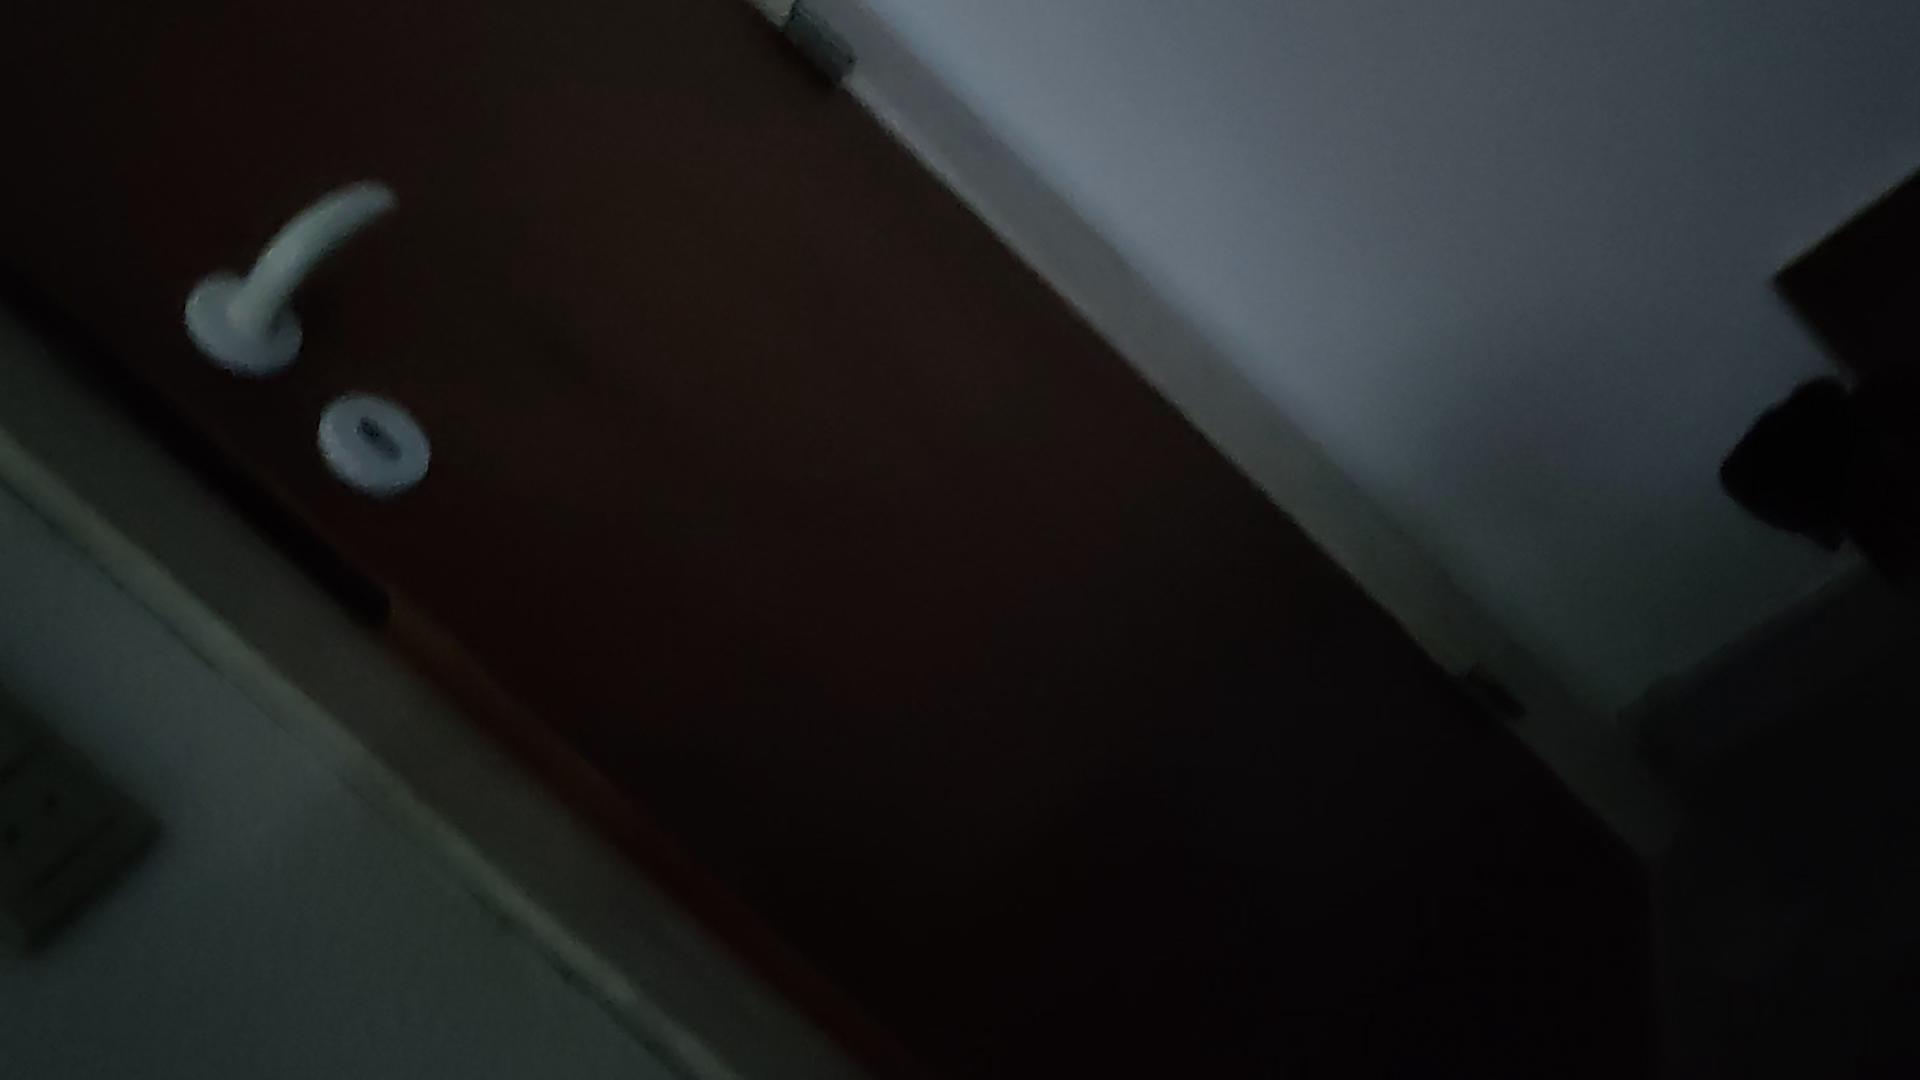Dog: (1698, 352, 1919, 609)
